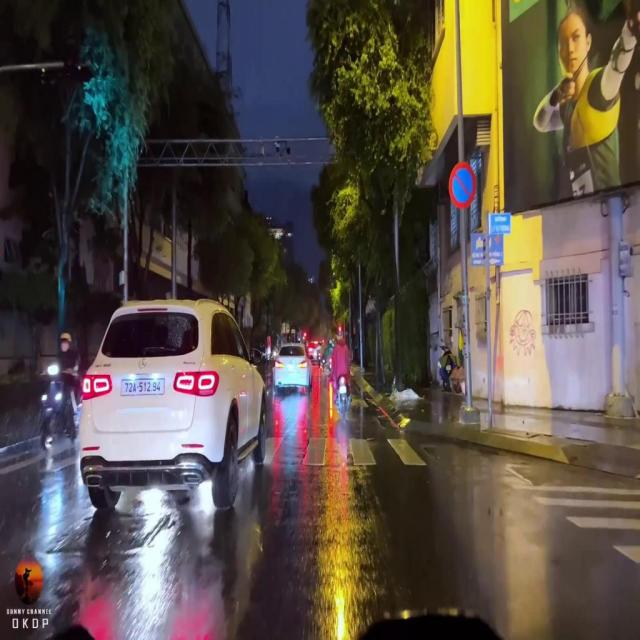cam_do_xe: (448, 162, 477, 209)
